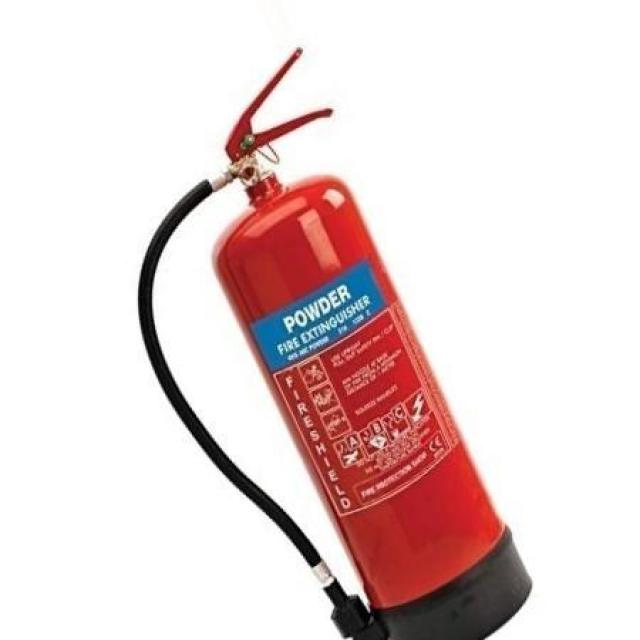fire_extinguisher: (137, 44, 531, 639)
